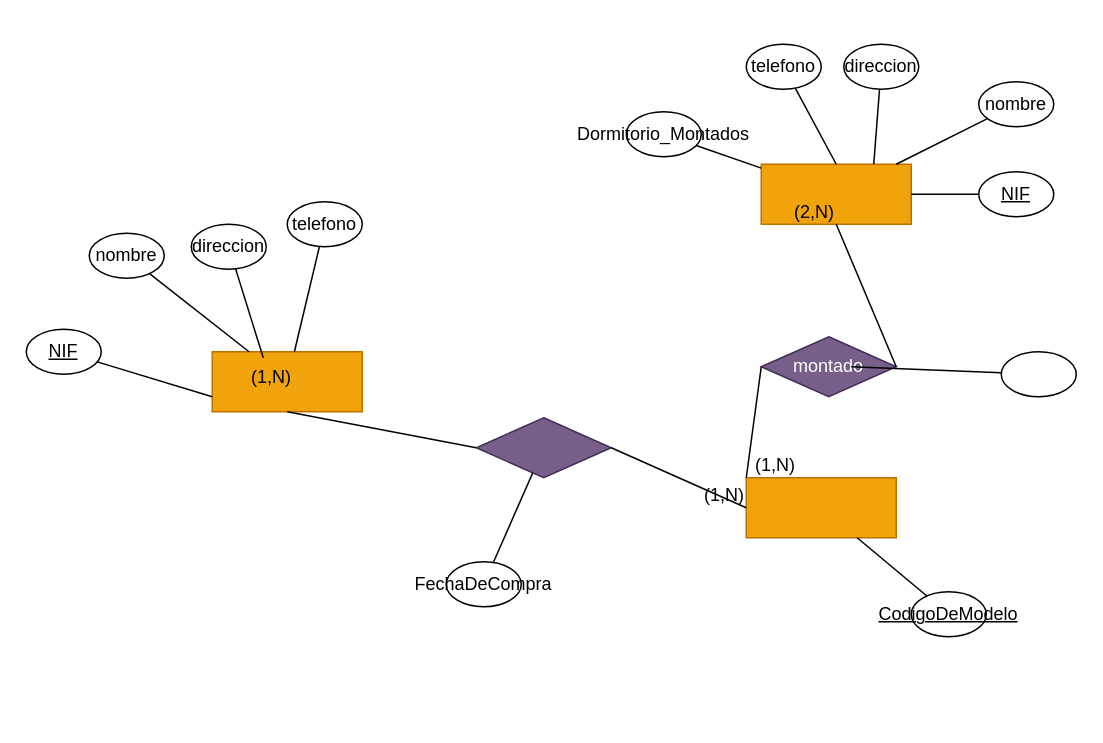
The diagram is 1103 pixels wide and 743 high, and some of its shapes have lost their labels. Here are the shapes that lost their labels. From the top down, the centre of each, then its label:
point (835, 193): Montador
point (286, 381): Cliente
point (1038, 373): Fecha
point (543, 447): Comprado
point (820, 507): Dormitorio
